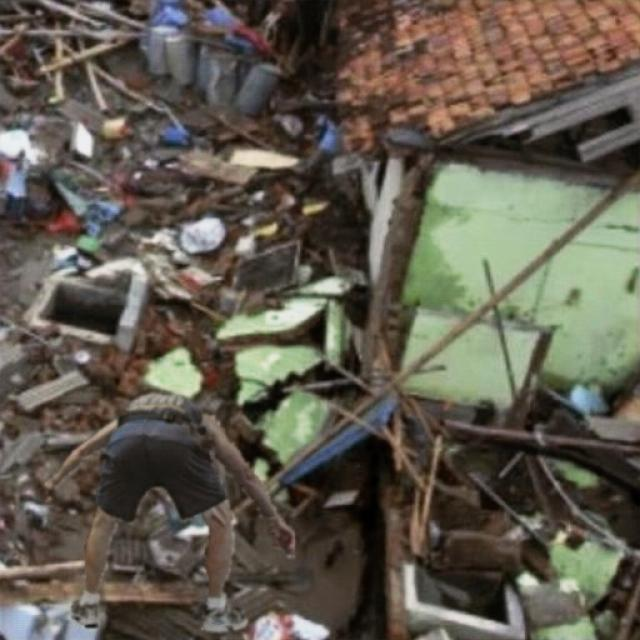Person in Rubble: (45, 392, 294, 632)
